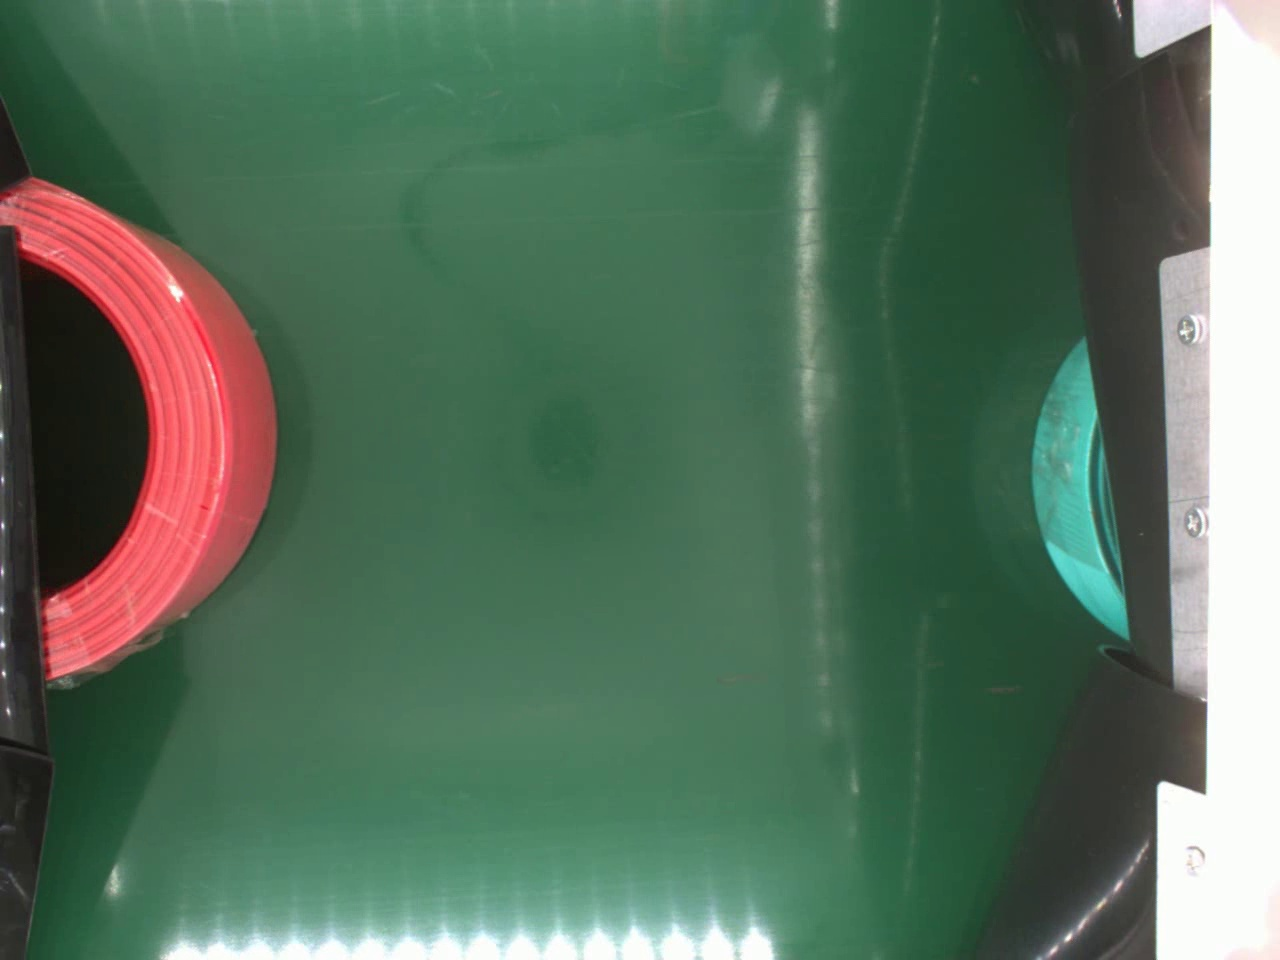red: (0, 170, 279, 688)
